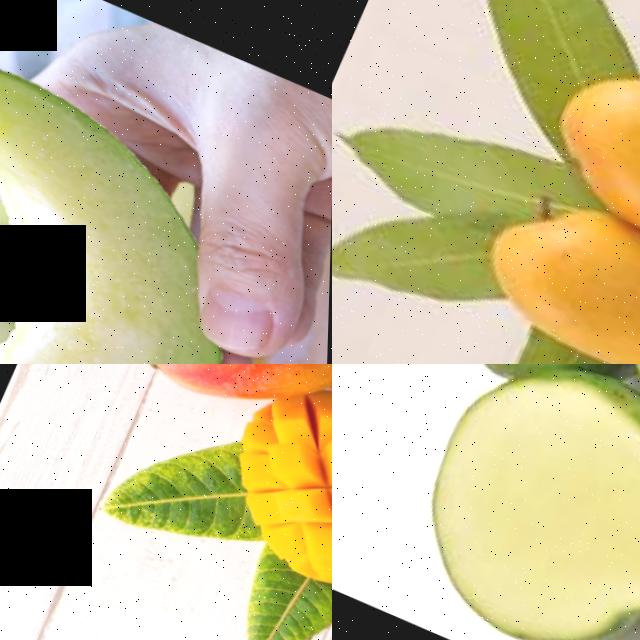mango: (384, 364, 640, 640), (463, 175, 640, 364), (529, 43, 640, 267), (99, 364, 332, 450)
melon: (0, 247, 246, 364)
